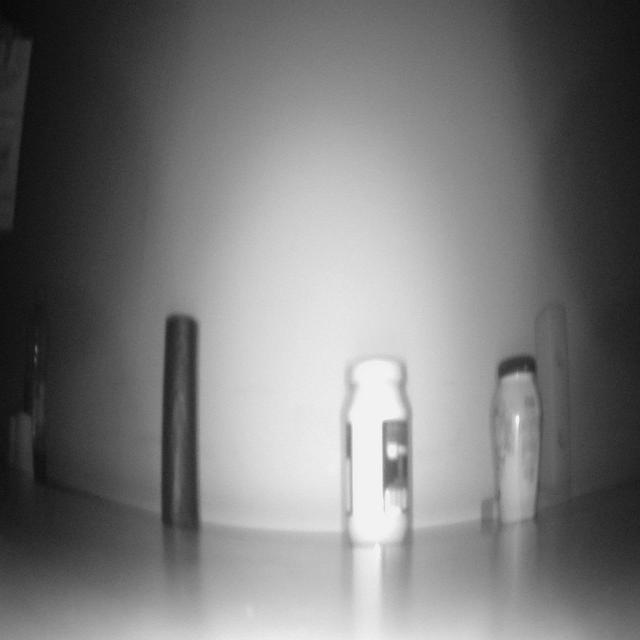targets: (342, 349, 412, 550), (493, 354, 544, 523), (534, 298, 571, 517), (162, 310, 198, 529), (25, 278, 55, 476), (13, 414, 32, 486)
